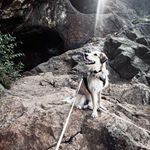puppy: (71, 47, 114, 125)
